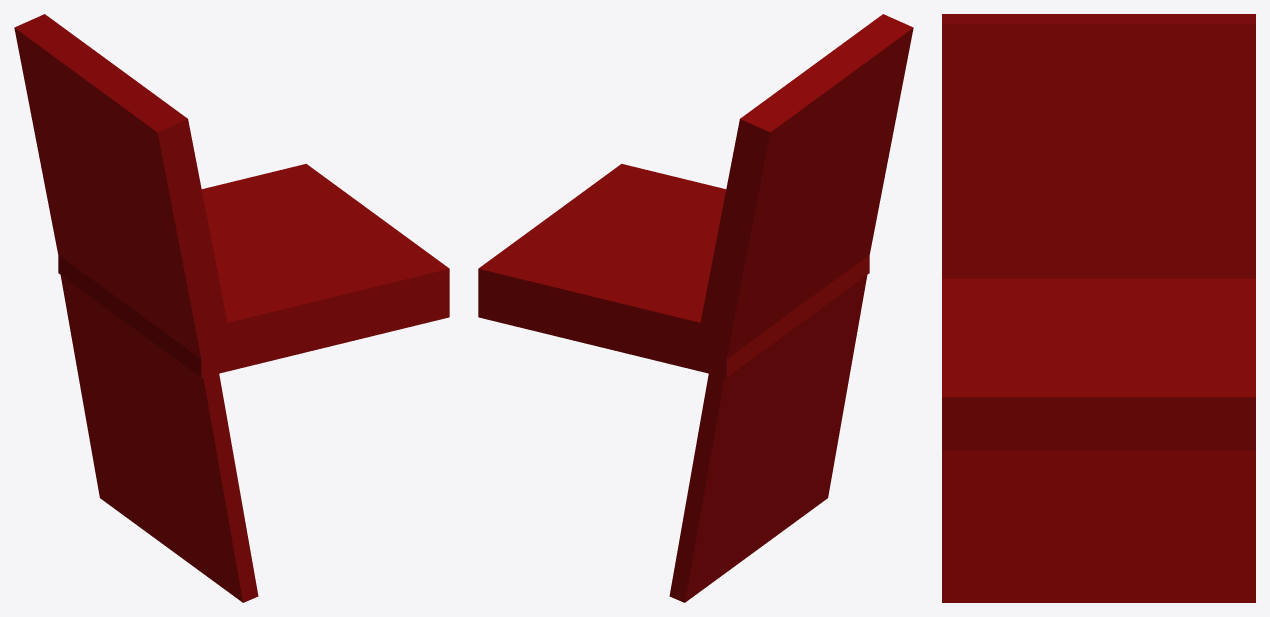
Rendered from seat.fbx.
3 renders of one model, left to right at view 1: azimuth 30°, elevation 25°; view 2: azimuth 150°, elevation 25°; view 3: azimuth 270°, elevation 25°, orthographic. The views are drawn at different scales.
Visible parts, largest first — view 1: Gruppe_270; view 2: Gruppe_270; view 3: Gruppe_270.
Part boxes in pixels (box(x1,y1,x2,y2)): Gruppe_270: box(14, 14, 449, 602); Gruppe_270: box(478, 14, 913, 602); Gruppe_270: box(942, 14, 1255, 602).
Size of the model in its own units: 471 by 766 by 400.
